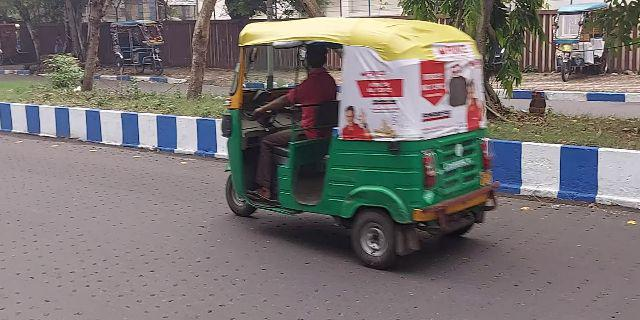Autorickshaw: (225, 16, 507, 267)
